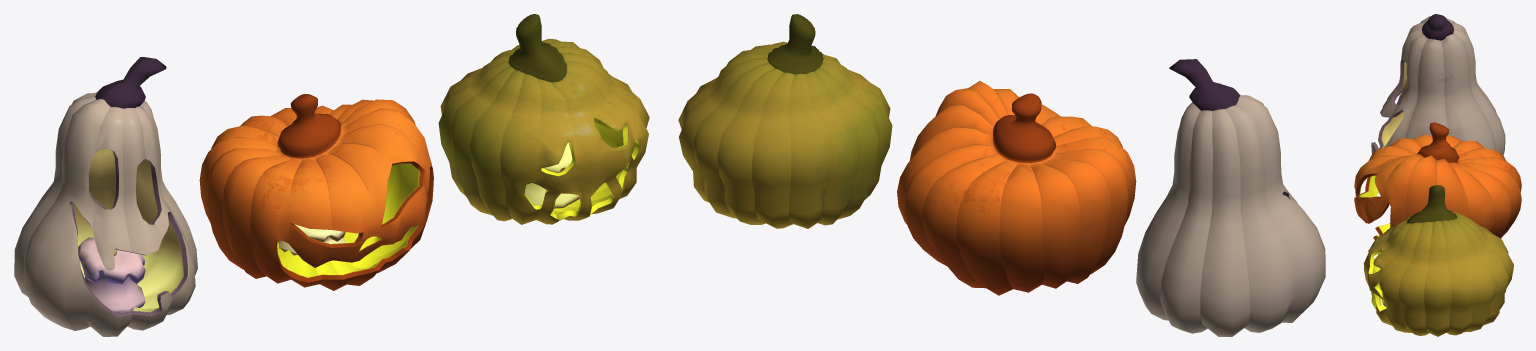
Rendered from Pumpkin (1).fbx.
3 views of the same model, side by side, from view 1: azimuth 30°, elevation 25°; view 2: azimuth 150°, elevation 25°; view 3: azimuth 270°, elevation 25° (orthographic). The views are drawn at different scales.
Parts seen in each view (by area): view 1: Pumpkin_1, Pumpkin_3, Pumpkin_2; view 2: Pumpkin_1, Pumpkin_3, Pumpkin_2; view 3: Pumpkin_2, Pumpkin_1, Pumpkin_3.
Boxes of the visible parts, left/top/right/bottom form: Pumpkin_1: left=199, top=94, right=433, bottom=290; Pumpkin_3: left=14, top=57, right=197, bottom=336; Pumpkin_2: left=438, top=14, right=649, bottom=224; Pumpkin_1: left=897, top=81, right=1136, bottom=295; Pumpkin_3: left=1136, top=59, right=1325, bottom=336; Pumpkin_2: left=678, top=14, right=892, bottom=228; Pumpkin_2: left=1363, top=185, right=1513, bottom=336; Pumpkin_1: left=1354, top=122, right=1521, bottom=239; Pumpkin_3: left=1371, top=14, right=1505, bottom=155.
Size of the model in its own units: 128 by 49.58 by 43.01.
